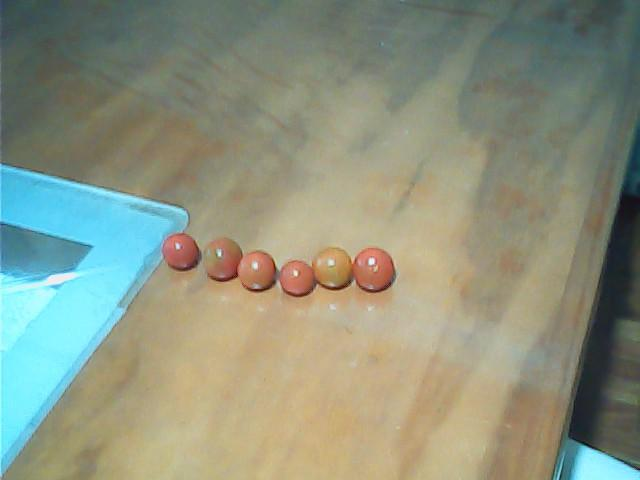maduro: (353, 248, 394, 292), (237, 251, 275, 291), (161, 233, 200, 270), (280, 261, 315, 294)
verde: (313, 249, 354, 289), (204, 238, 241, 280)
